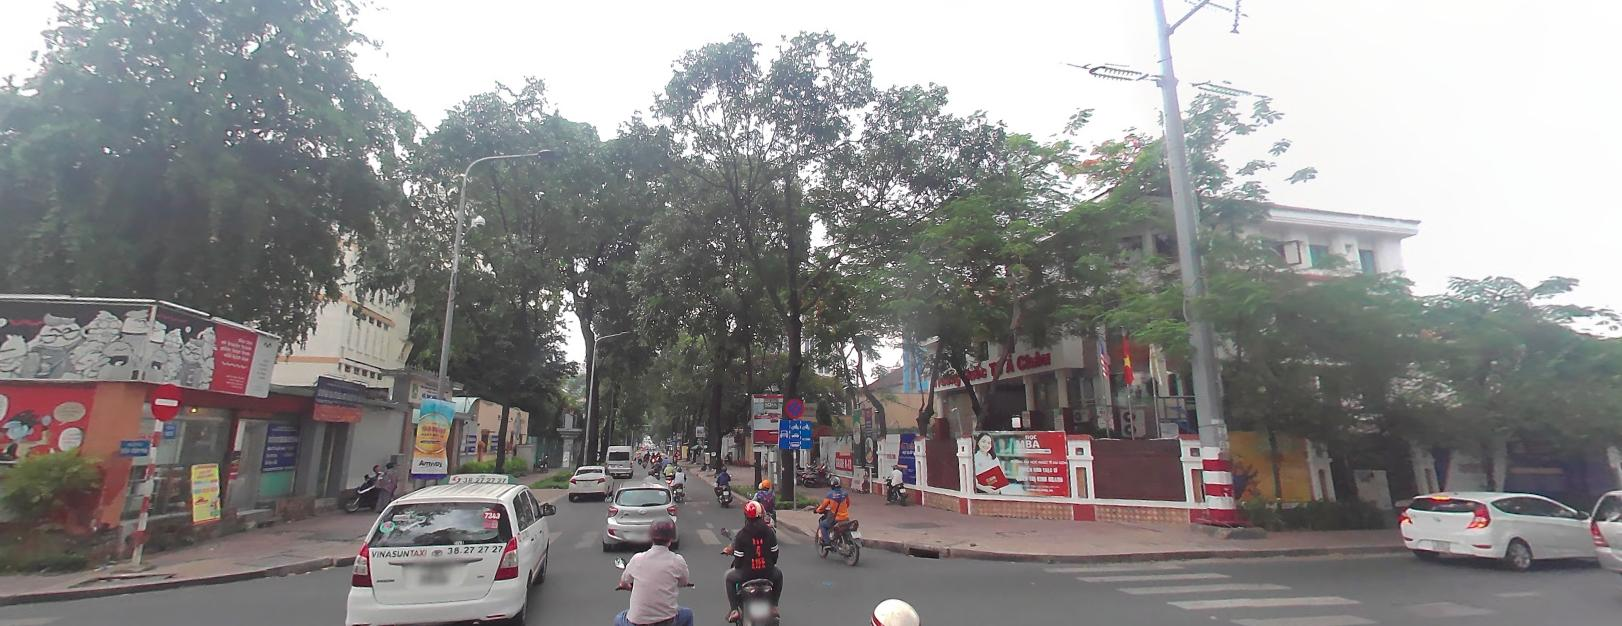Cam dung va do: (785, 397, 804, 417)
Cam nguoc chieu: (151, 382, 181, 419)
